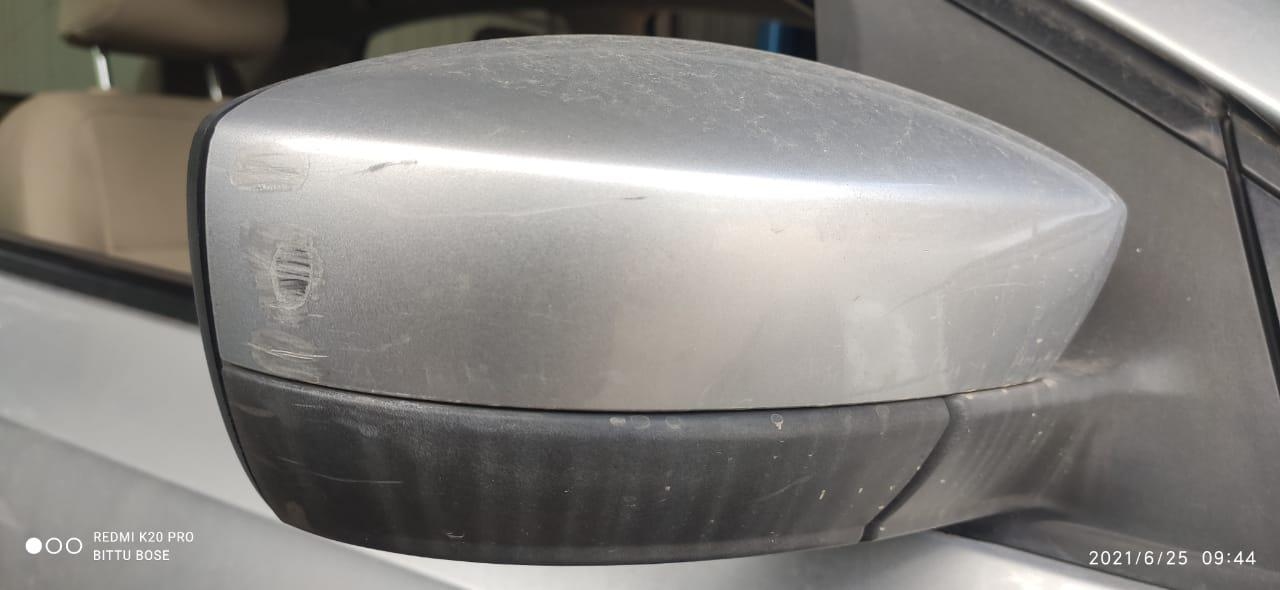Sidemirror-Damage: (173, 21, 1140, 587)
